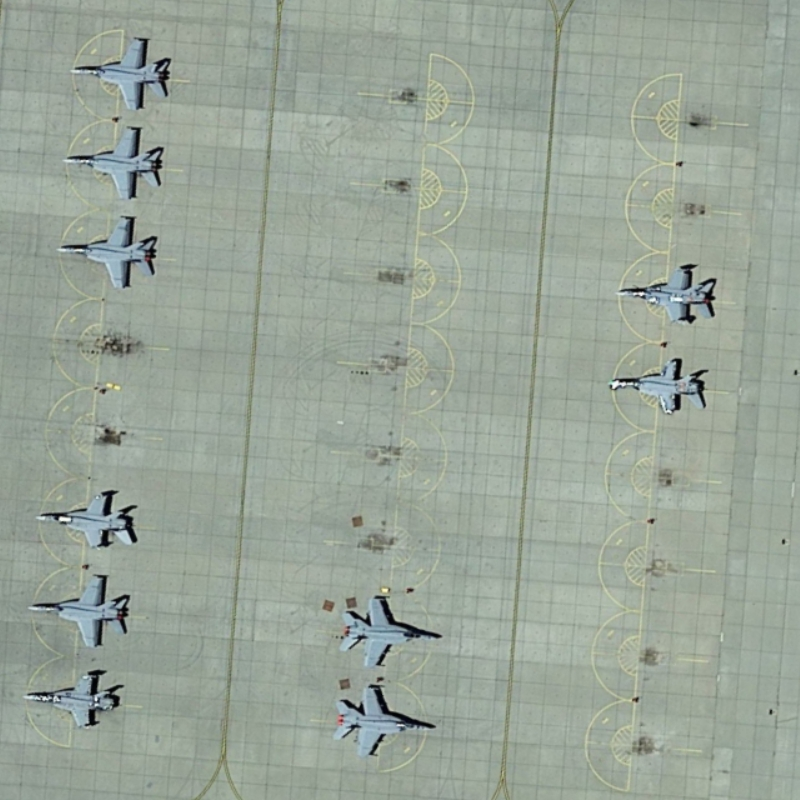A16: (47, 211, 164, 297), (326, 678, 439, 764), (333, 588, 446, 673), (21, 567, 132, 652), (65, 34, 179, 116), (54, 122, 168, 202), (611, 256, 723, 328), (604, 350, 714, 422), (14, 665, 123, 732), (28, 488, 143, 550)
